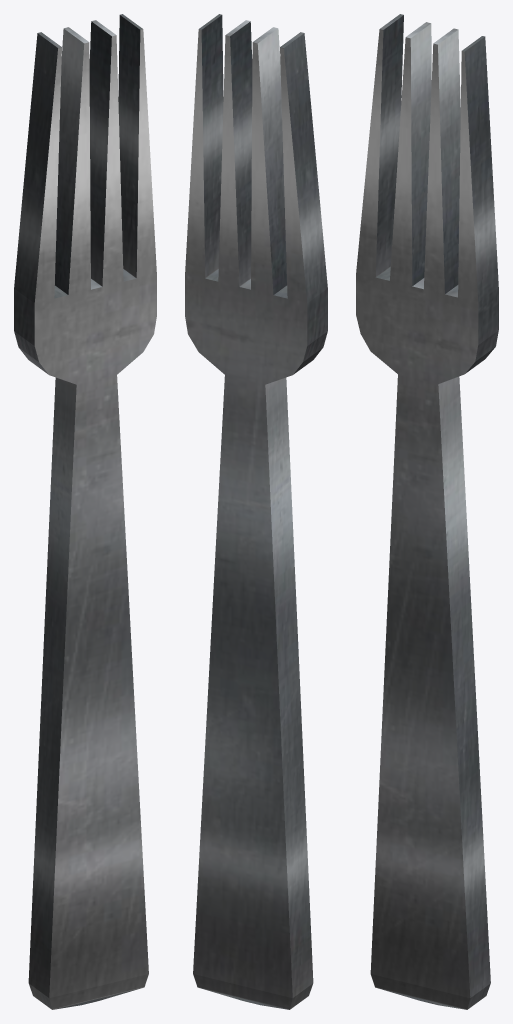
Rendered from Fork.fbx.
3 views of the same model, side by side, from view 1: azimuth 30°, elevation 25°; view 2: azimuth 150°, elevation 25°; view 3: azimuth 330°, elevation 25° (orthographic).
Visible parts, largest first — view 1: Cube; view 2: Cube; view 3: Cube.
Boxes of the visible parts, x1,y1,x2,y2 form: Cube: [14, 14, 156, 1009]; Cube: [185, 14, 327, 1009]; Cube: [356, 14, 498, 1009].
Size of the model in its own units: 63.64 by 483 by 18.64.
